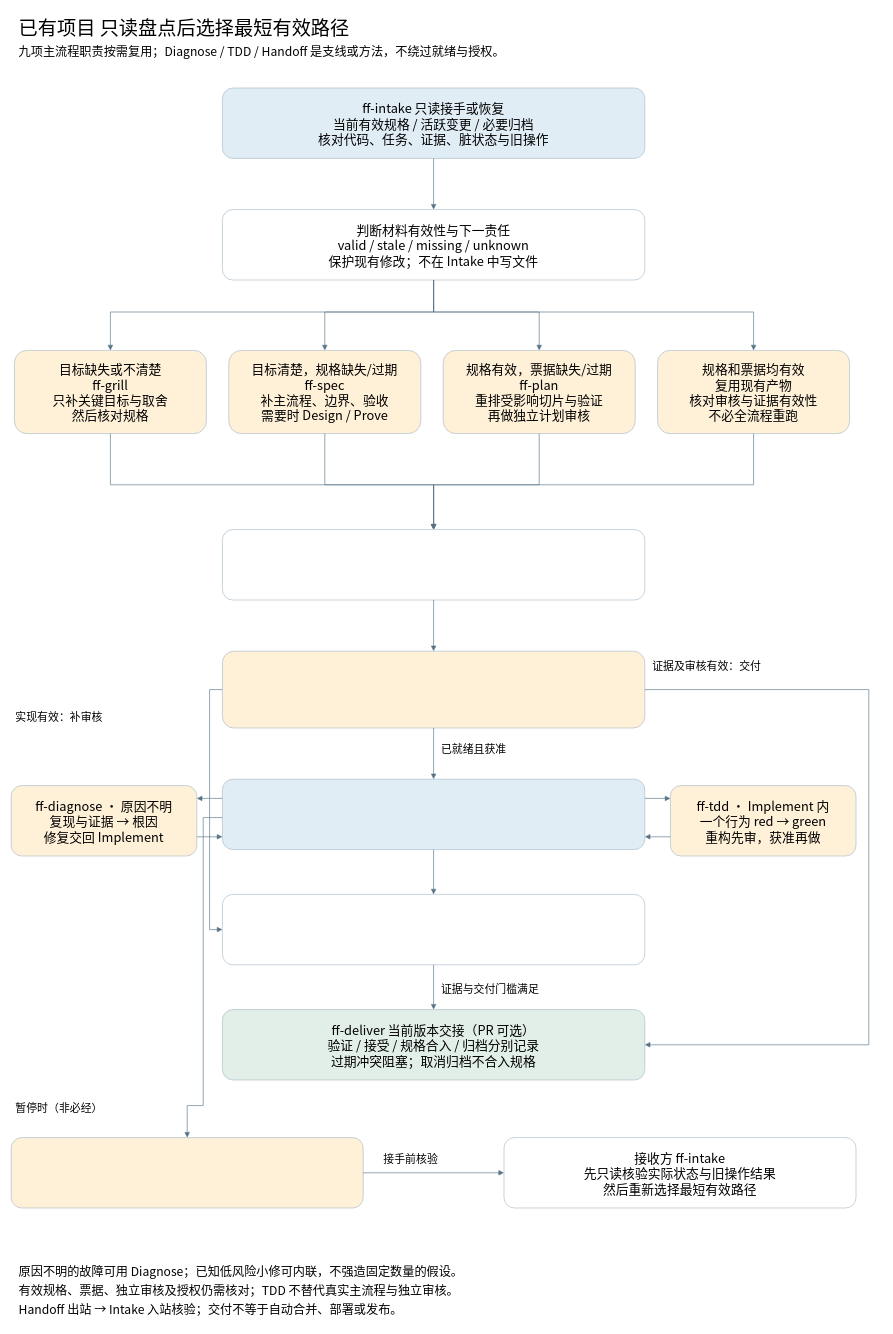
The diagram is 893 pixels wide and 1334 high, and some of its shapes have lost their labels. The shapes that lost their labels are listed below. From the top down, each one's centre as x and y in pixels, then its label:
At pixel 433 564: "汇合前补齐依赖的缺口 Grill → Spec → Plan，仅运行所需部分 Design / Prove 的结论反馈到规格与计划".
At pixel 433 689: "实施就绪与授权核对 独立 plan 审核有效？目标/票据/测试明确？ 环境可用？风险与权限明确？ 未就绪回到对应责任；未知不冒充通过".
At pixel 433 814: "ff-implement 继续最小获准切片 保留他人修改，核对旧操作后再续跑 实现/测试与证据绑定当前版本".
At pixel 433 929: "ff-review · goal-mainflow + code 独立验证真实主流程与代码风险 失败修复复验；需求变化回到 Spec/Plan".
At pixel 187 1172: "ff-handoff · 暂停/换模型/会话 出站：规格版本、变更状态、证据、下一步 与成果 Deliver 分开".
